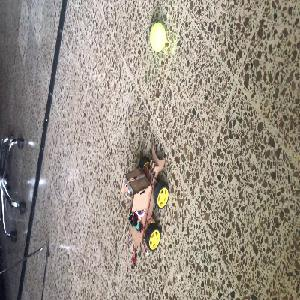Ball: (149, 22, 166, 51)
Robot: (121, 146, 169, 250)
